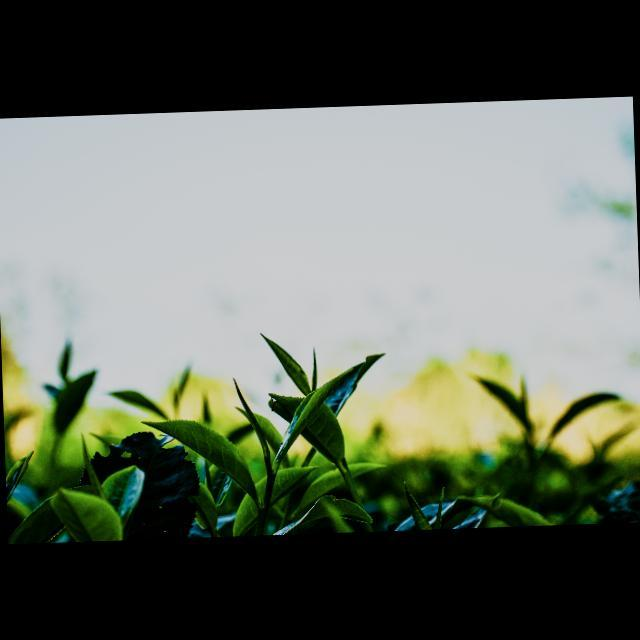Stem: (268, 475, 274, 483)
